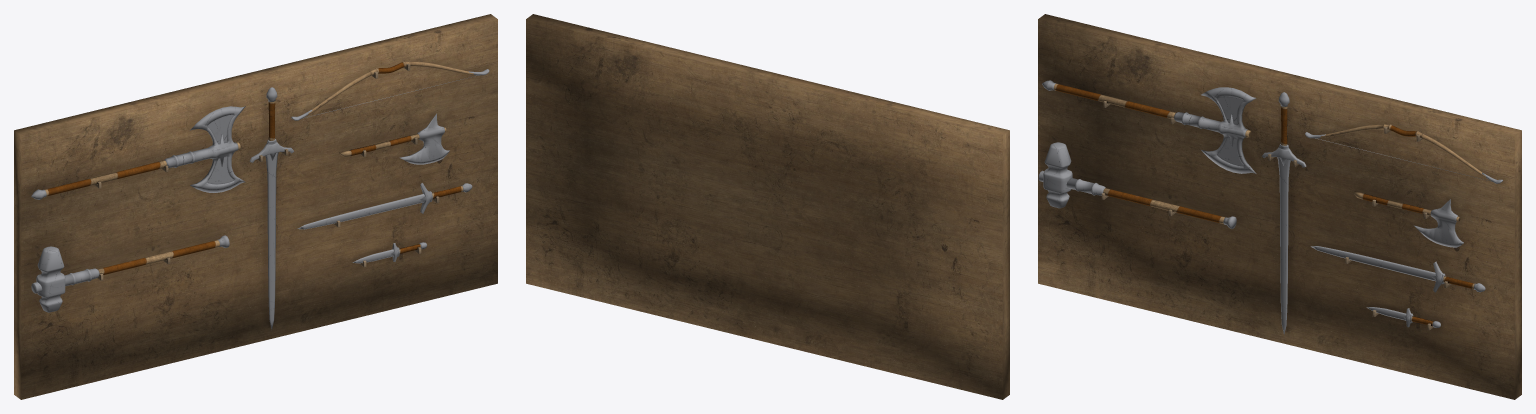
The model's file is weapons.glb.
3 renders of one model, left to right at view 1: azimuth 30°, elevation 25°; view 2: azimuth 150°, elevation 25°; view 3: azimuth 330°, elevation 25°, orthographic.
Visible parts, largest first — view 1: Rack_low, GreatAxe_low, WarHammer_low, GreatSword_low, Axe_low, Sword_low, Bow_low, Dagger_low, Hanger_low; view 2: Rack_low; view 3: Rack_low, GreatAxe_low, WarHammer_low, GreatSword_low, Axe_low, Sword_low, Bow_low, Dagger_low, Hanger_low.
Boxes of the visible parts, x1,y1,x2,y2 form: Rack_low: (14,14,497,399); GreatAxe_low: (31,106,245,199); WarHammer_low: (31,235,229,312); GreatSword_low: (249,87,293,329); Axe_low: (339,113,449,164); Sword_low: (297,183,472,229); Bow_low: (291,61,489,120); Dagger_low: (352,242,427,263); Hanger_low: (94,64,439,280); Rack_low: (526,14,1009,399); Rack_low: (1038,14,1521,399); GreatAxe_low: (1042,80,1256,173); WarHammer_low: (1038,142,1236,228); GreatSword_low: (1262,92,1306,334); Axe_low: (1353,191,1463,247); Sword_low: (1310,246,1485,292); Bow_low: (1305,124,1503,183); Dagger_low: (1366,307,1440,327); Hanger_low: (1101,101,1451,330).
Bounding box in the file's own units: 2 × 1.06 × 0.1241.
Materials: 9 (9 with a texture image).
